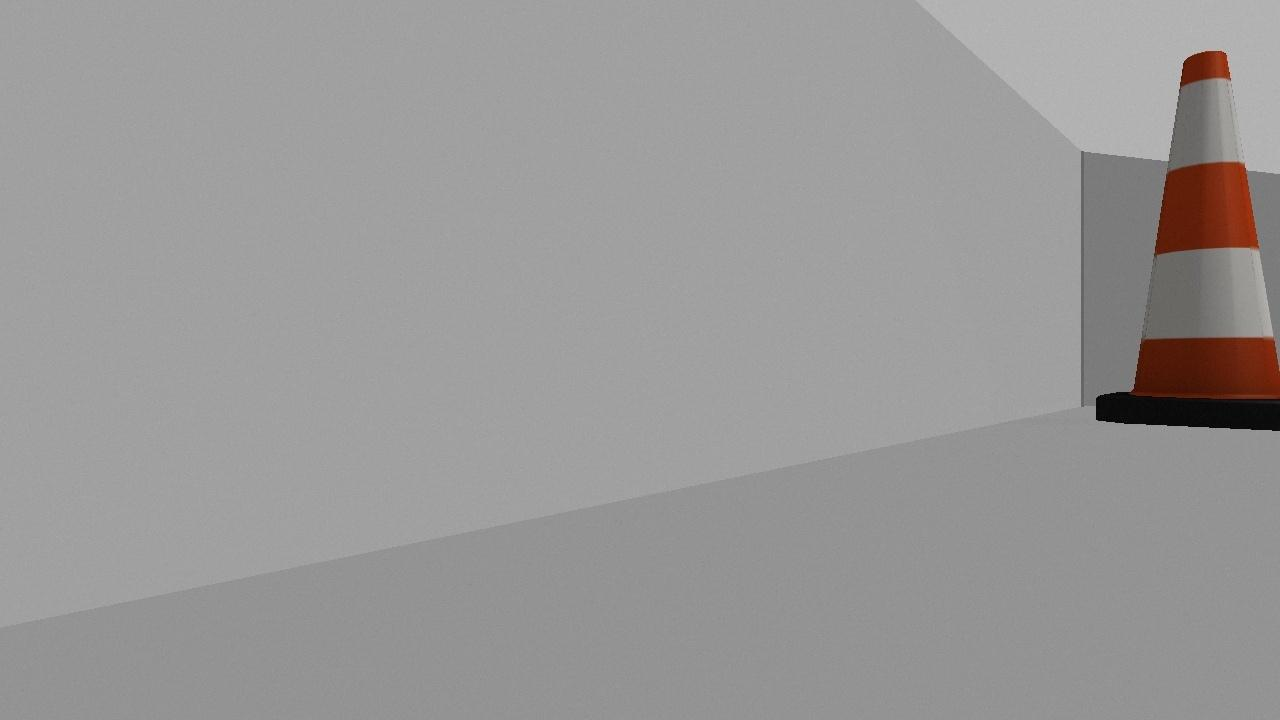cone_barrel: (1080, 35, 1279, 444)
